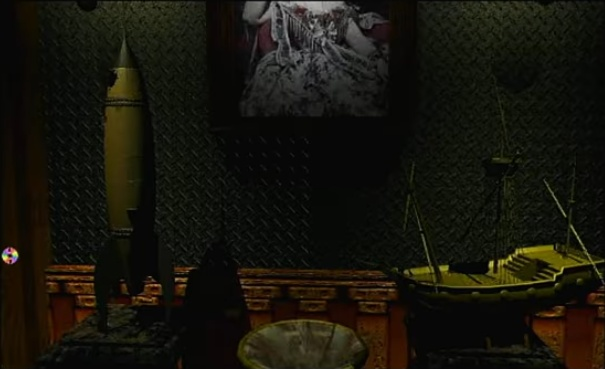Waiting: (0, 242, 24, 271)
